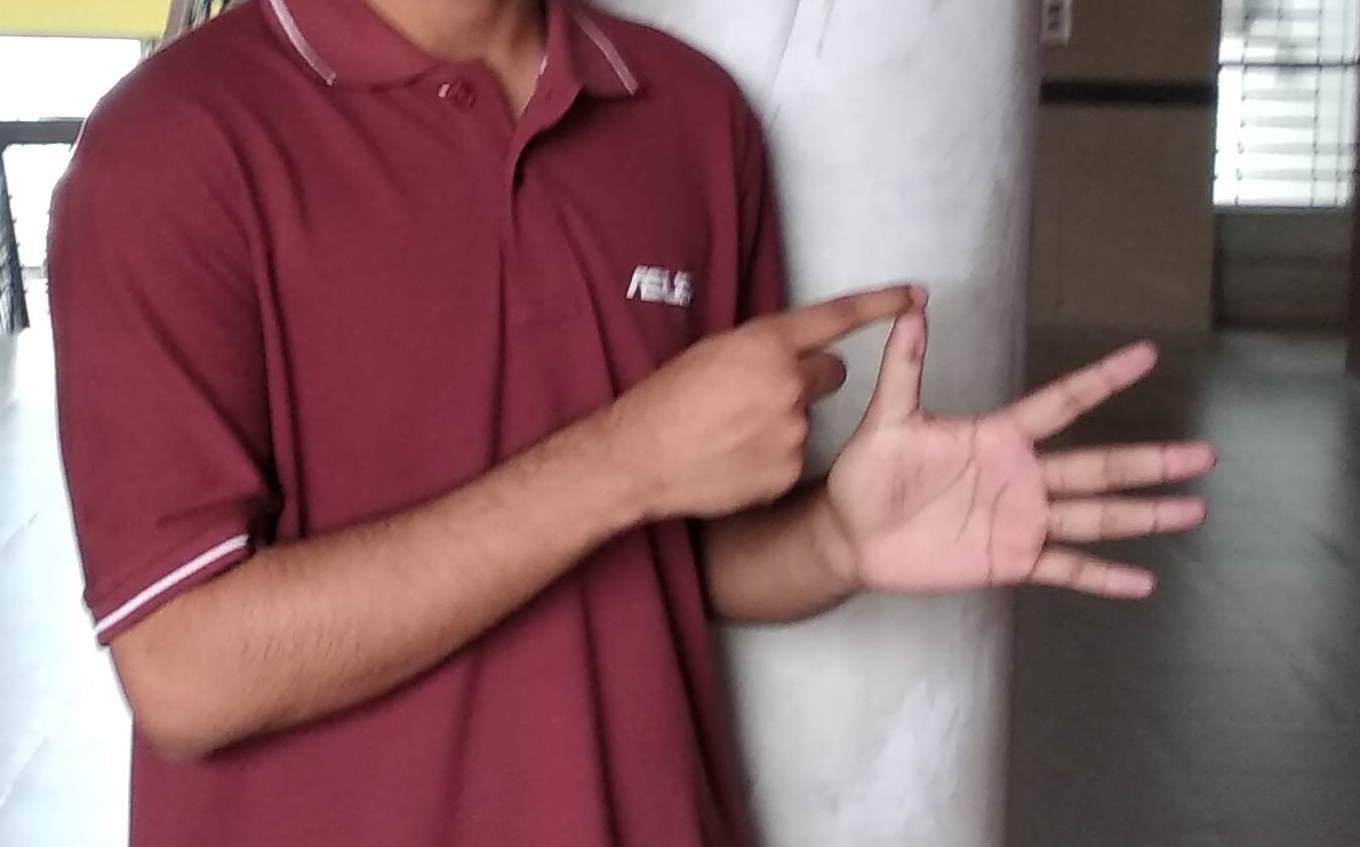a: (673, 280, 1188, 618)
